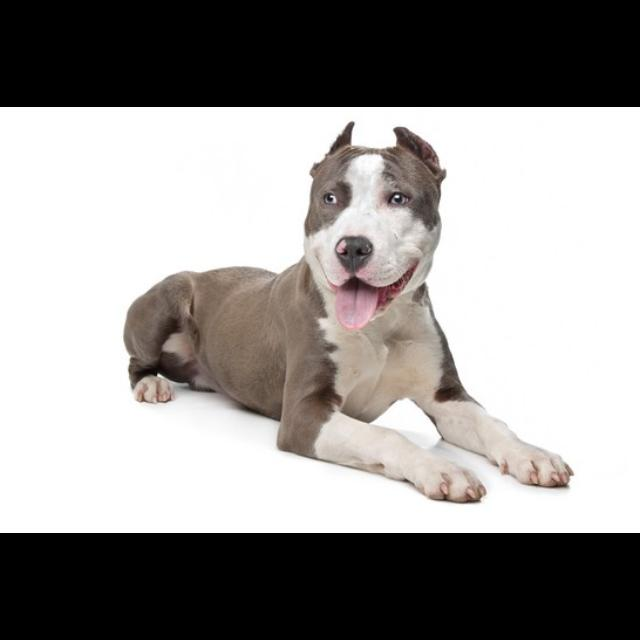am_pit_bull_terrier: (123, 121, 575, 505)
